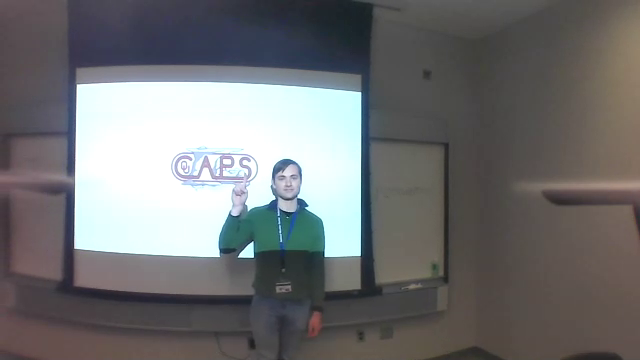up: (228, 170, 253, 206)
